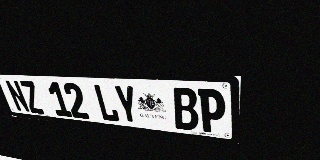1: (45, 82, 73, 117)
2: (62, 82, 90, 119)
B: (171, 87, 199, 131)
L: (92, 84, 120, 122)
N: (4, 80, 31, 113)
P: (198, 89, 225, 134)
Y: (112, 85, 141, 125)
Z: (18, 80, 45, 114)
